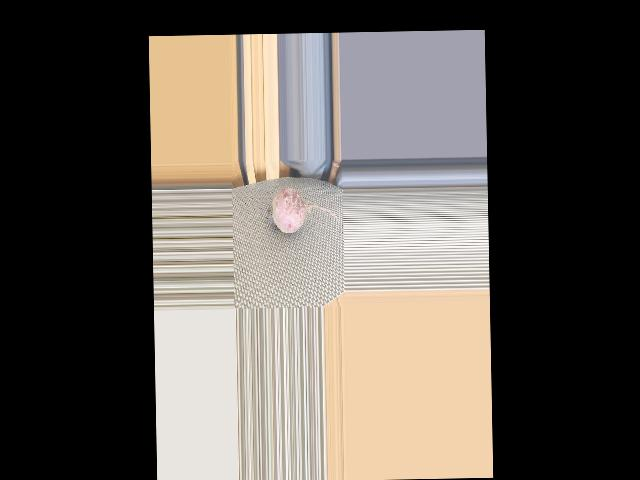beet: (265, 186, 337, 233)
